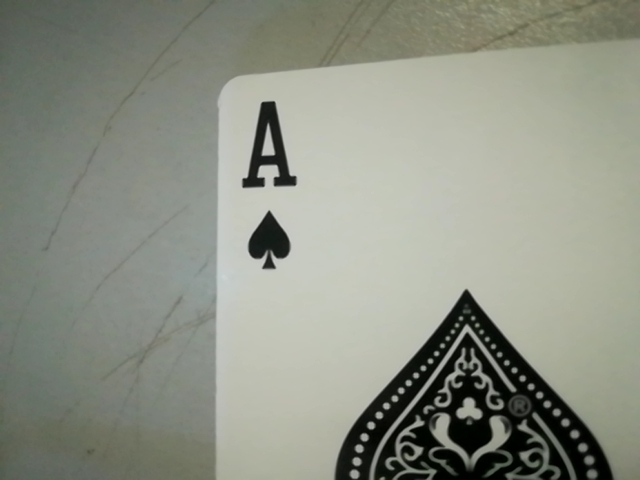ht a: (224, 87, 312, 282)
